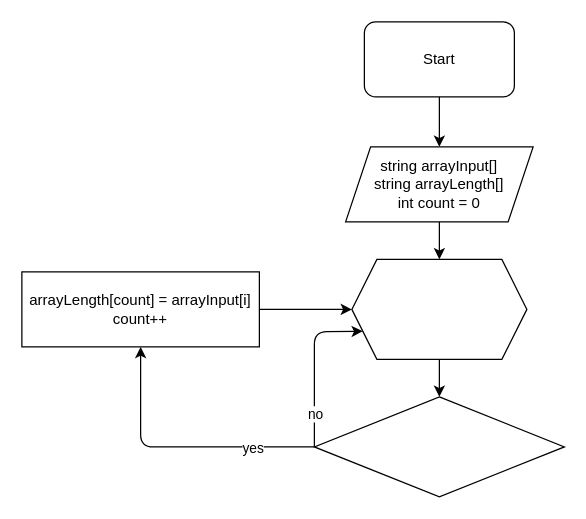
This 586x519 diagram has some shape labels left out. Each missing label, with the box of its shape:
for (int i = 0; i < arrayInput.Length; i++): (351, 258, 527, 359)
if (arrayInput[i].Length <= 3): (313, 396, 564, 497)
